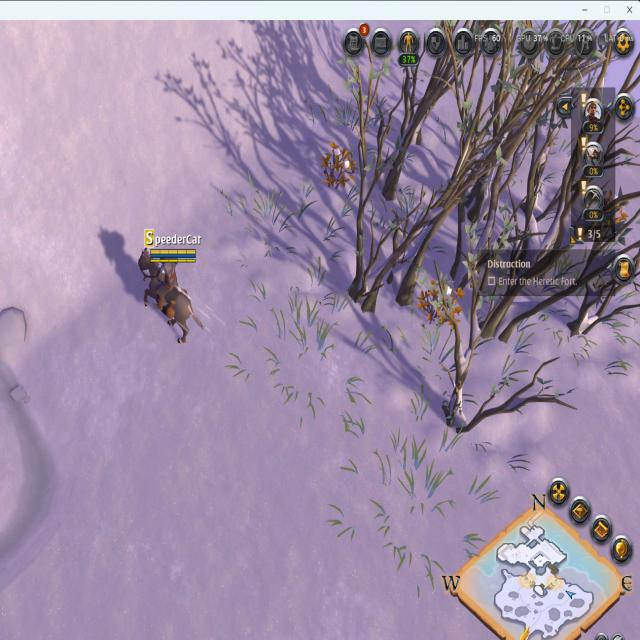cotton: (415, 276, 463, 328), (318, 142, 357, 192), (598, 188, 632, 238)
